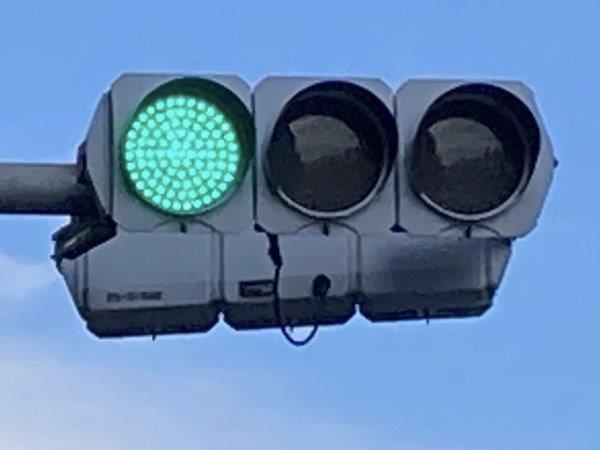cars: (107, 73, 554, 237)
